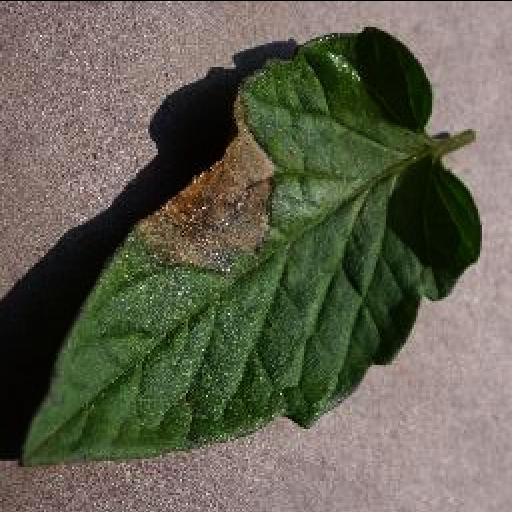disease_tomato: (18, 26, 486, 468)
